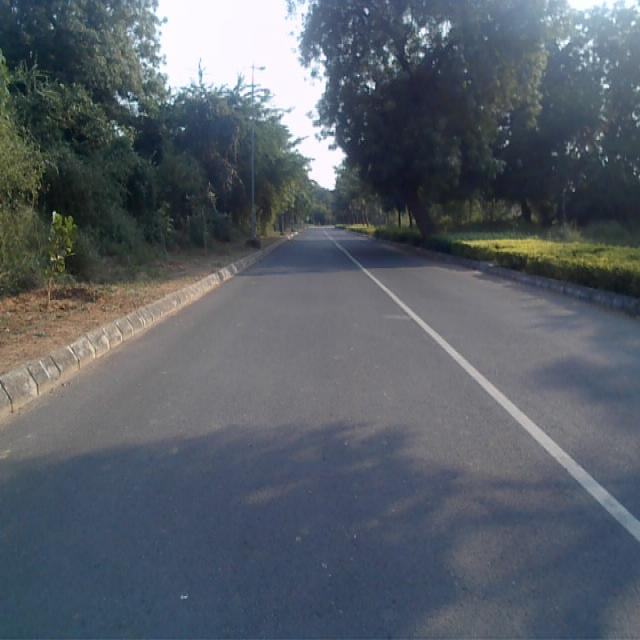lane: (0, 227, 640, 640)
